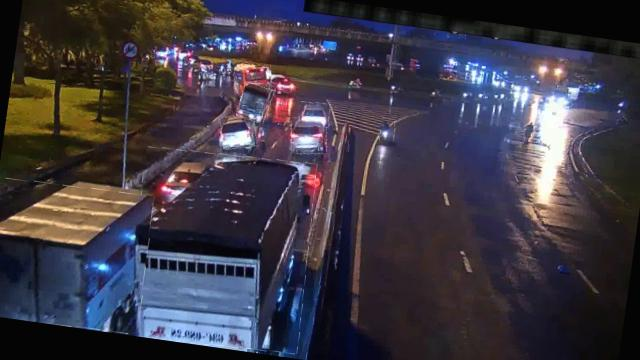Bike: (378, 118, 396, 144)
Bus: (230, 62, 274, 100)
Car: (287, 114, 329, 158), (217, 111, 259, 152), (298, 100, 330, 128), (269, 74, 297, 96)
Truck: (122, 142, 321, 358), (0, 175, 155, 336), (235, 82, 272, 122)
